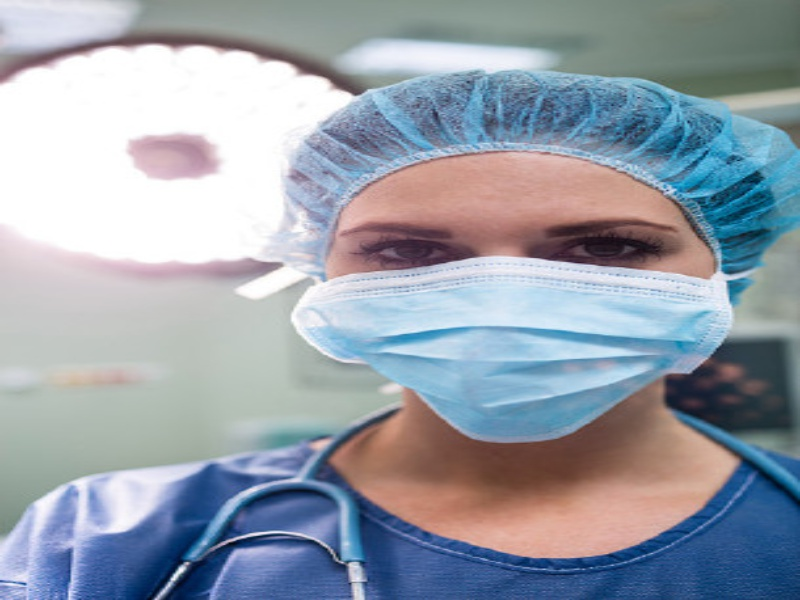mask: (280, 58, 800, 433)
